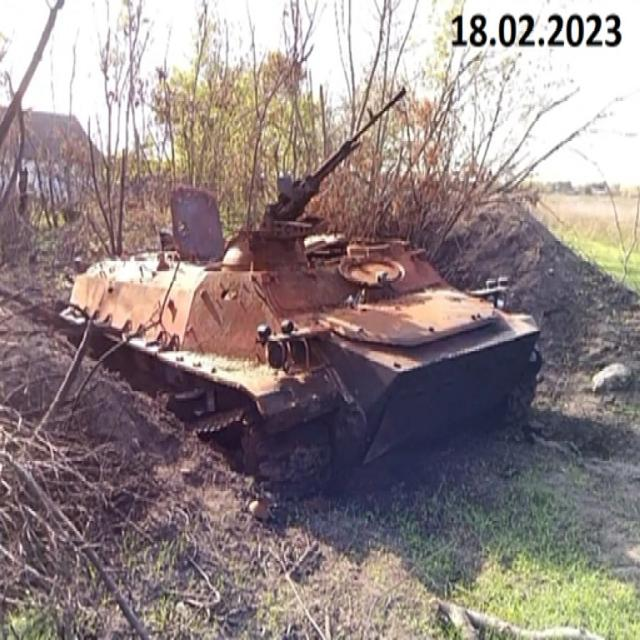APC-IFV: (60, 82, 542, 494)
